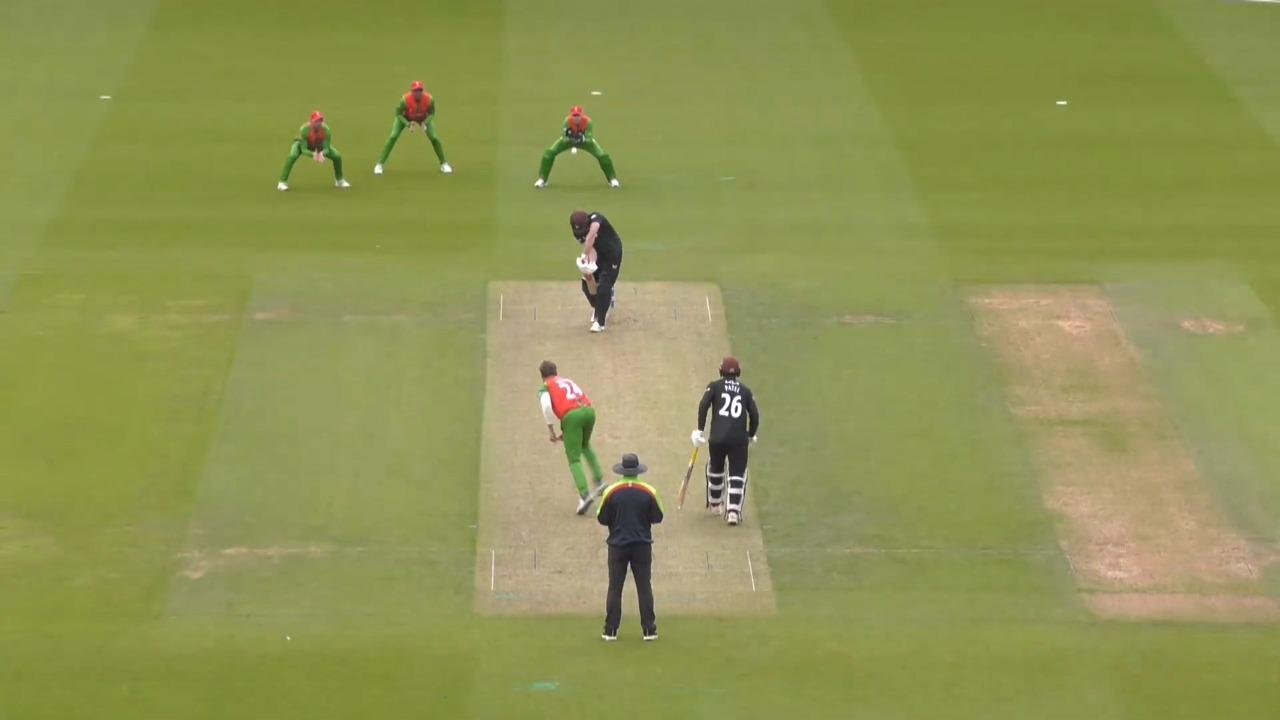sports ball: (572, 147, 577, 155)
